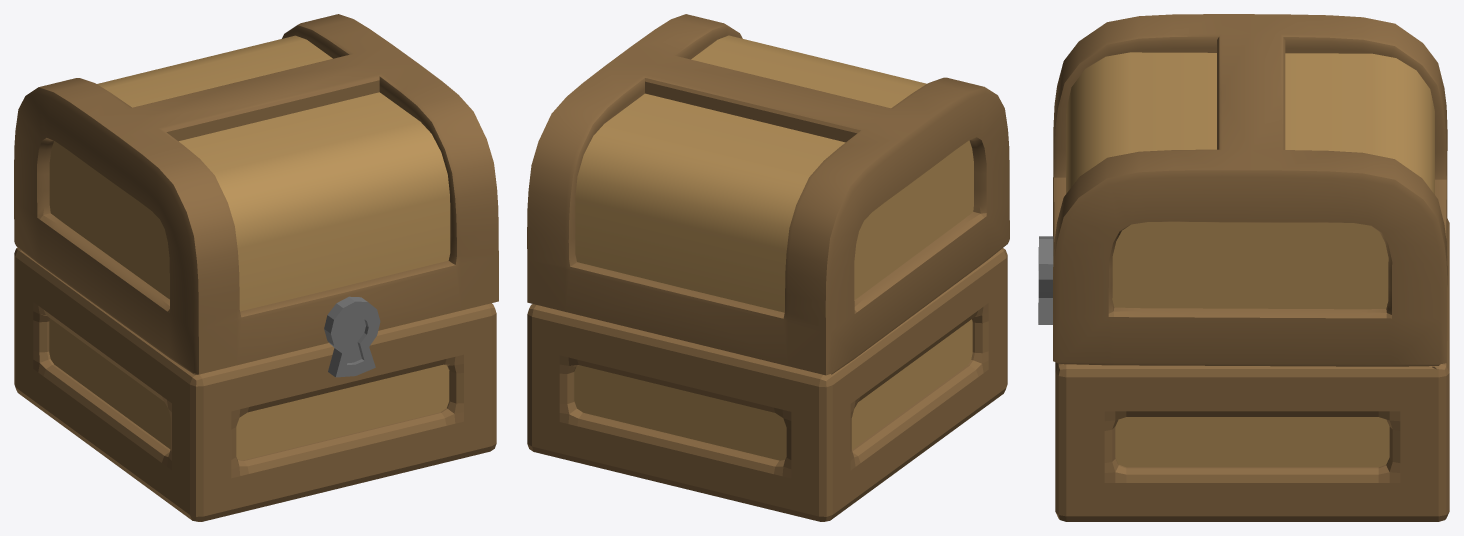
The model's file is chest.glb.
The picture shows the model from 3 angles, left to right: view 1: azimuth 30°, elevation 25°; view 2: azimuth 150°, elevation 25°; view 3: azimuth 270°, elevation 25°; orthographic projection. The views are drawn at different scales.
Visible parts, largest first — view 1: Chest_Open.001, Chest_Open; view 2: Chest_Open.001, Chest_Open; view 3: Chest_Open.001, Chest_Open.
Part boxes in pixels (x1,y1,x2,y2): Chest_Open.001: (14, 14, 498, 377); Chest_Open: (14, 247, 496, 521); Chest_Open.001: (527, 14, 1009, 375); Chest_Open: (527, 248, 1007, 521); Chest_Open.001: (1038, 14, 1447, 366); Chest_Open: (1055, 218, 1449, 521).
Size of the model in its own units: 1.84 by 1.91 by 2.
1 material, 1 textured.
